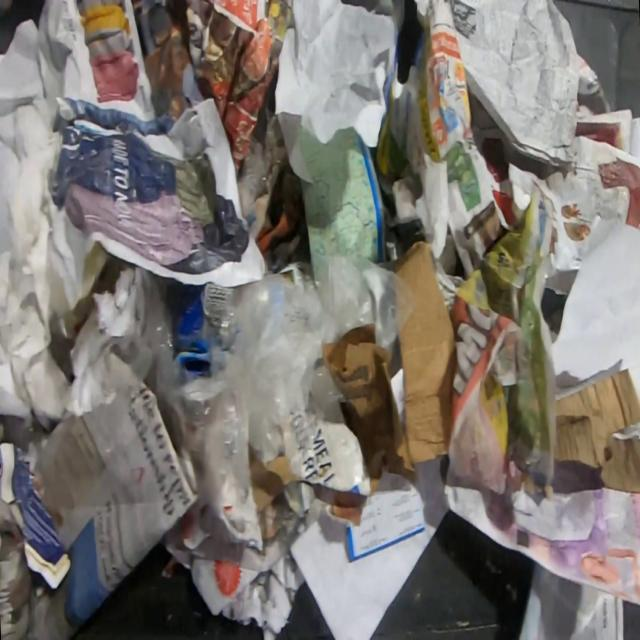cardboard: (249, 324, 414, 509), (392, 238, 456, 471), (554, 367, 640, 495), (158, 275, 211, 374)
soft_plastic: (114, 253, 415, 511), (238, 100, 282, 226)
